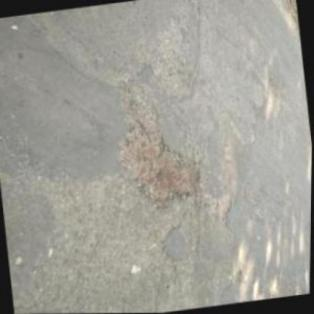Hueco: (115, 118, 208, 215)
